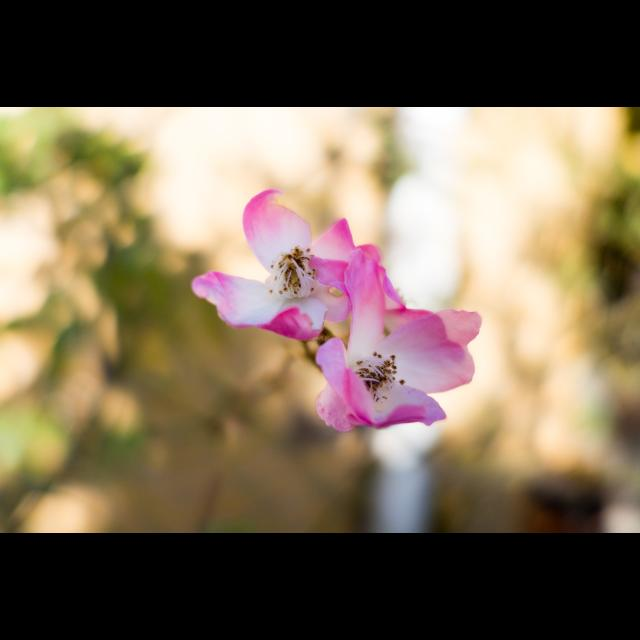Flower: (271, 216, 483, 447), (190, 186, 398, 334)
